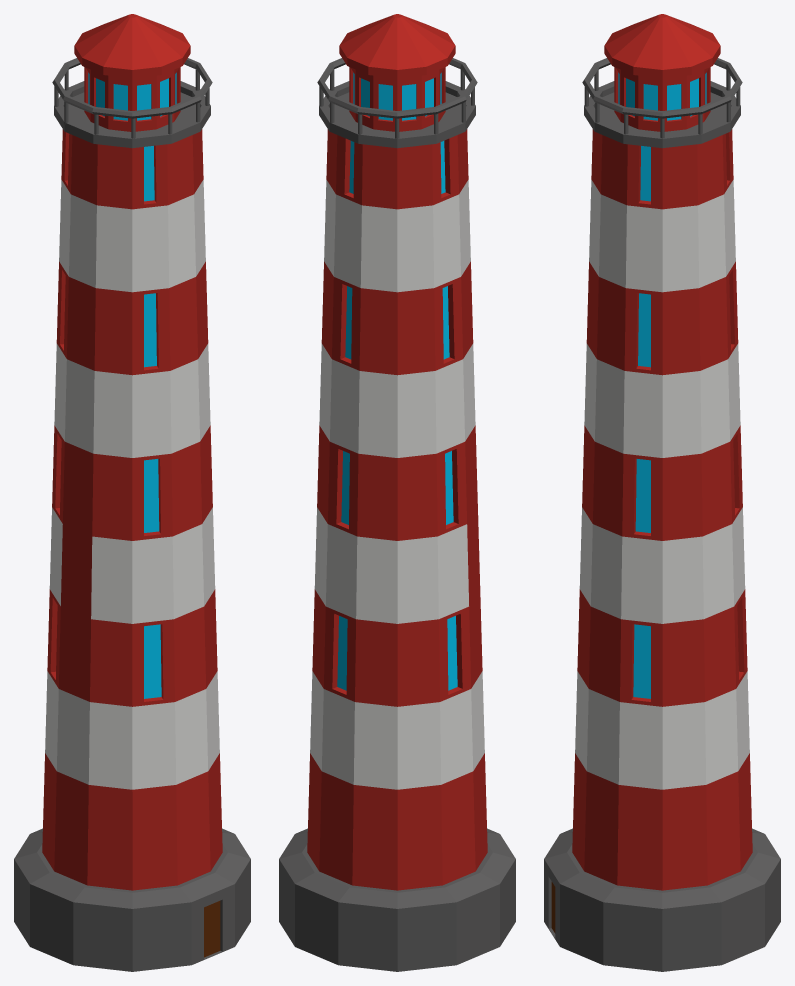
The model's file is Lighthouse.fbx.
3 renders of one model, left to right at view 1: azimuth 30°, elevation 25°; view 2: azimuth 150°, elevation 25°; view 3: azimuth 270°, elevation 25°, orthographic.
Visible parts, largest first — view 1: Cylinder, Torus; view 2: Cylinder, Torus; view 3: Cylinder, Torus.
Part boxes in pixels (x1=…): Cylinder: x1=14, y1=14, x2=250, y2=971; Torus: x1=52, y1=58, x2=212, y2=118; Cylinder: x1=279, y1=14, x2=515, y2=971; Torus: x1=317, y1=58, x2=477, y2=118; Cylinder: x1=544, y1=14, x2=780, y2=971; Torus: x1=582, y1=58, x2=742, y2=118.
Bounding box in the file's own units: 982 × 4146 × 982.
